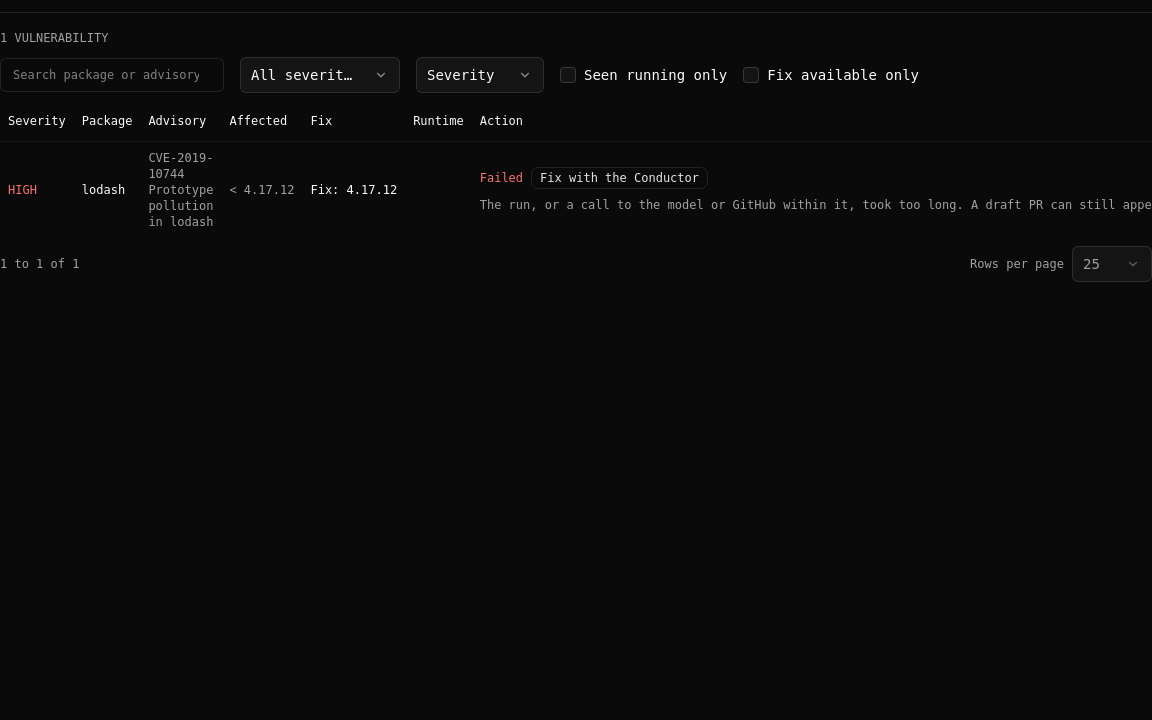
it: CveFindings › does not offer a second request while the retried run has not been written yet
The image size is (1152, 720).
Click the button "Fix with the Conductor". click: [620, 178]
box: [531,166,708,188]
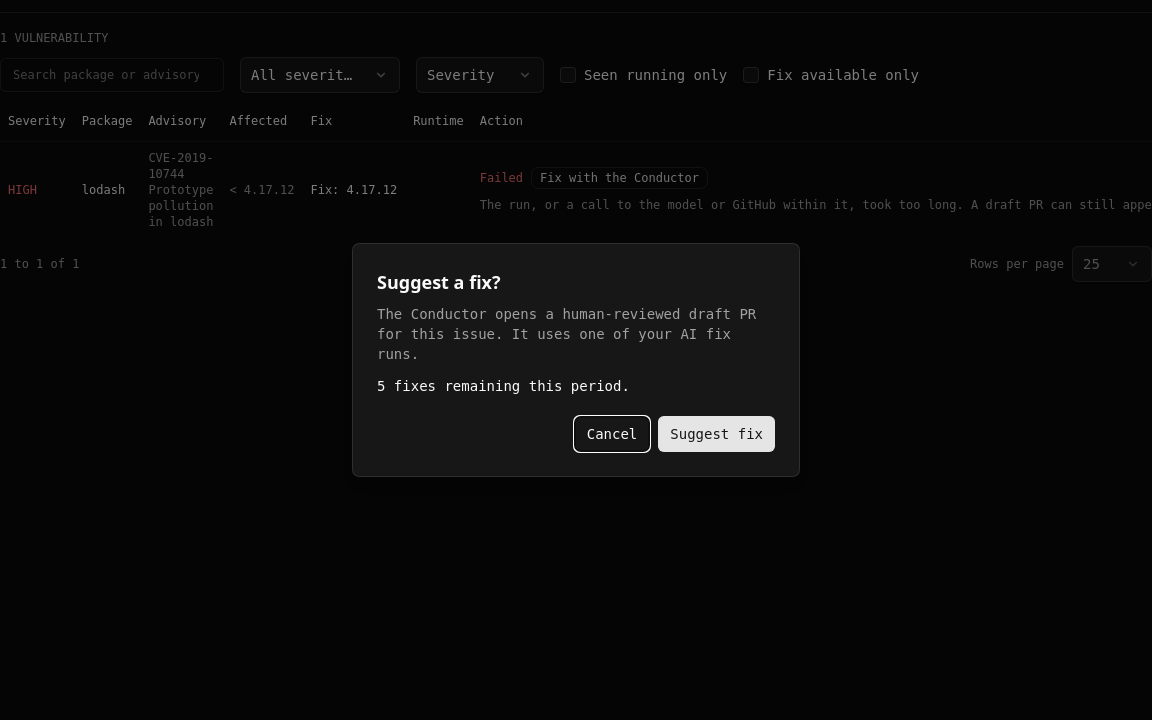
Click the button "Suggest fix". click: [717, 434]
box: [658,416,775,452]
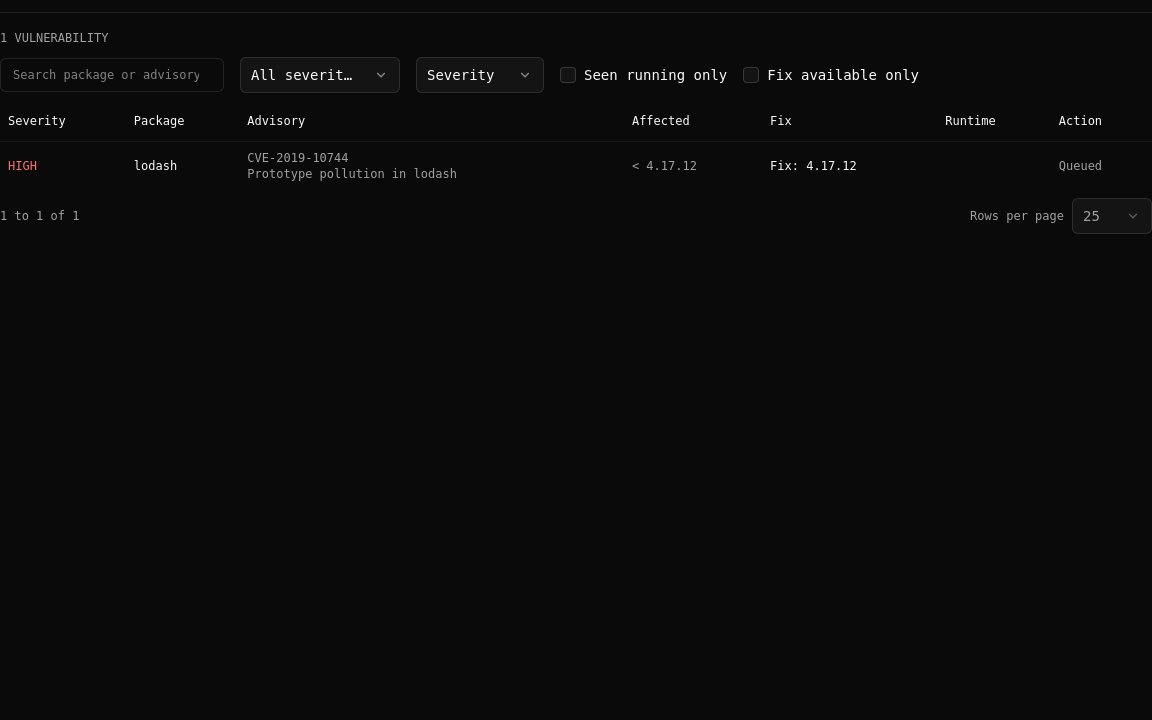
expect the text "Queued" is shown: met, box [1059,158,1102,174]
expect the button "Fix with the Conductor" is gone: met
